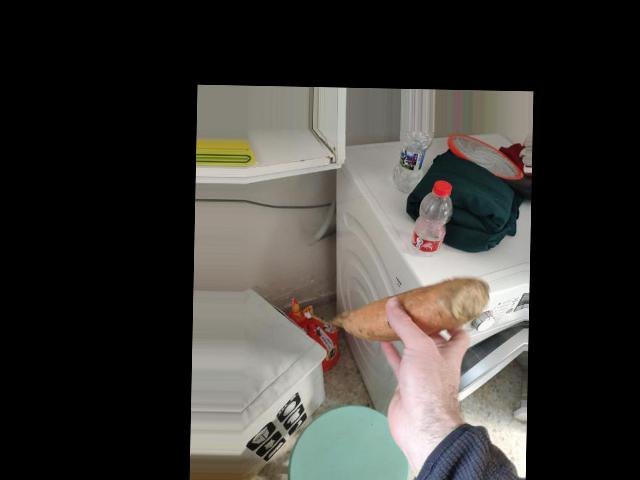sweet_potato: (327, 284, 487, 333)
